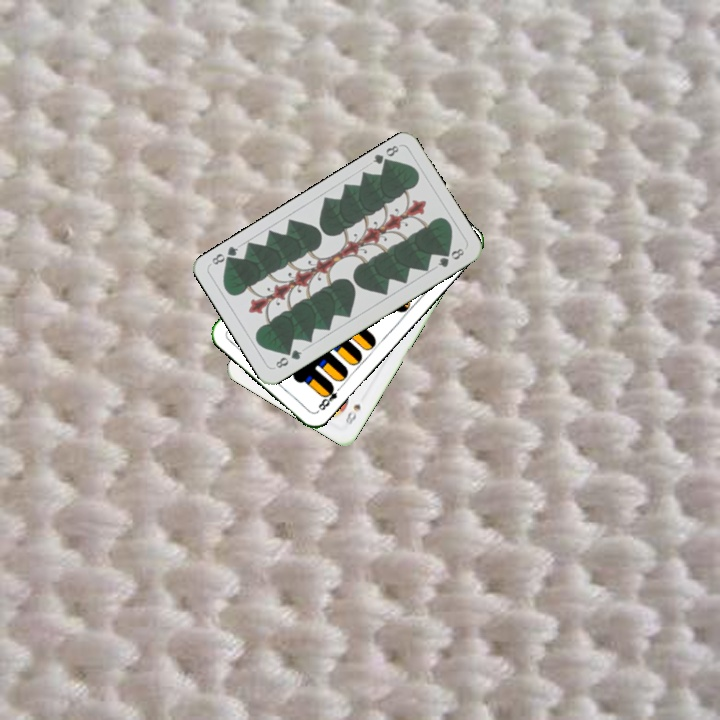E8: (314, 381, 344, 413)
G8: (368, 141, 402, 170), (271, 345, 305, 371)
S8: (341, 400, 363, 430)
